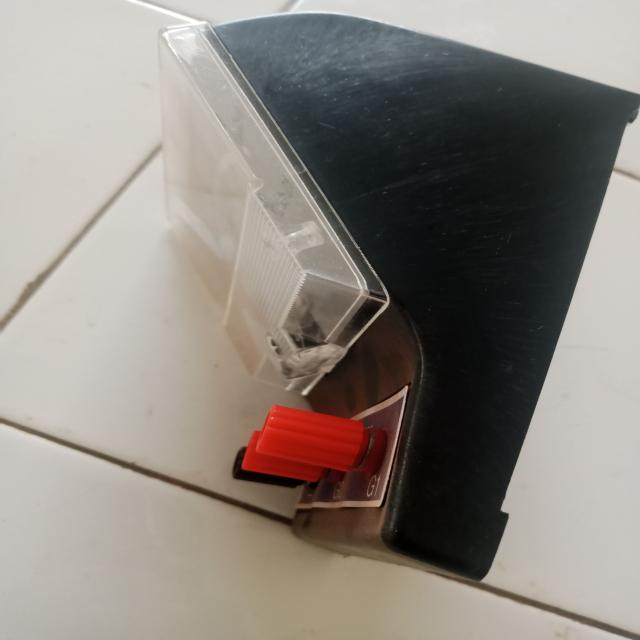Galvanometer: (141, 3, 621, 580)
